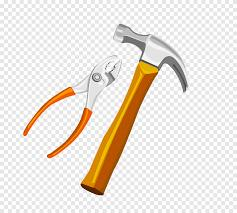hammer: (79, 21, 189, 196)
